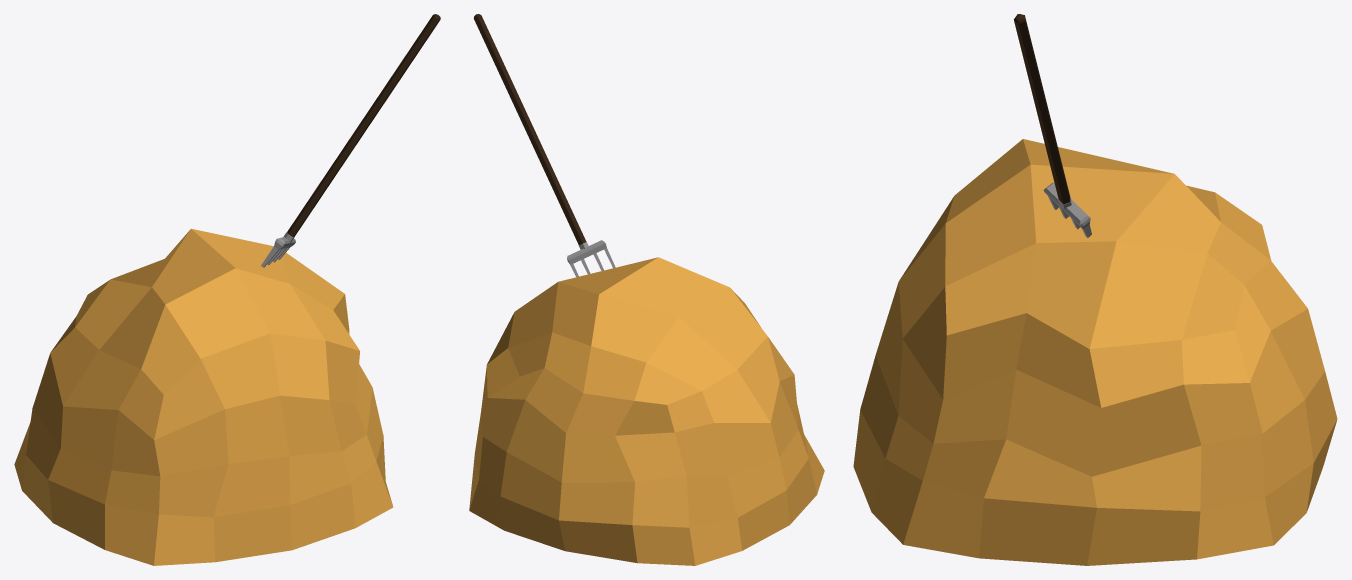
File: Haybale_002.fbx
3 views of the same model, side by side, from view 1: azimuth 30°, elevation 25°; view 2: azimuth 150°, elevation 25°; view 3: azimuth 270°, elevation 25° (orthographic). The views are drawn at different scales.
Visible parts, largest first — view 1: haybale, pitchfork in haybale; view 2: haybale, pitchfork in haybale; view 3: haybale, pitchfork in haybale.
Boxes of the visible parts, <box> form: haybale: <box>14,228,393,565</box>; pitchfork in haybale: <box>261,14,440,267</box>; haybale: <box>469,257,824,565</box>; pitchfork in haybale: <box>473,14,615,277</box>; haybale: <box>853,139,1337,565</box>; pitchfork in haybale: <box>1014,14,1091,237</box>.
Bounding box in the file's own units: 264 × 306 × 229.
